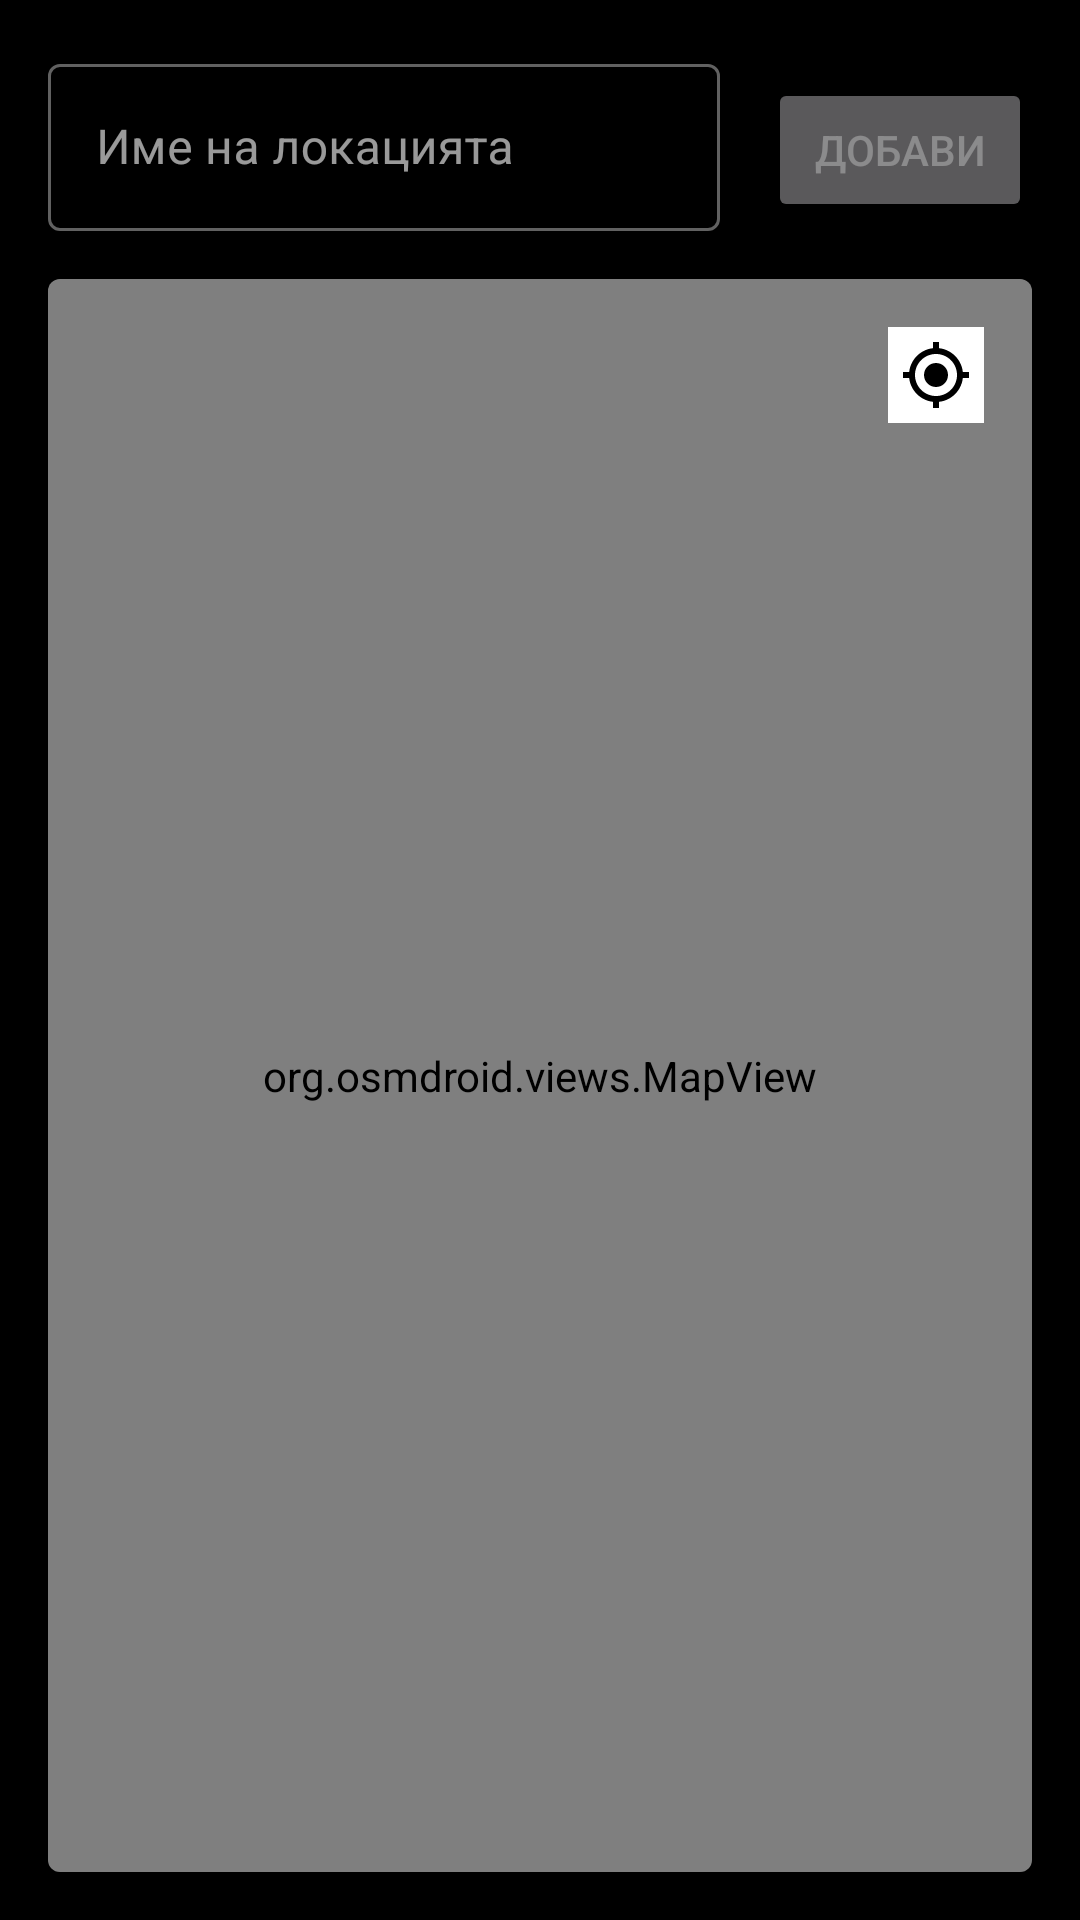

Named icons in this screenshot (1080 × 1920) and their centers, (x,y):
location: (936,375)
